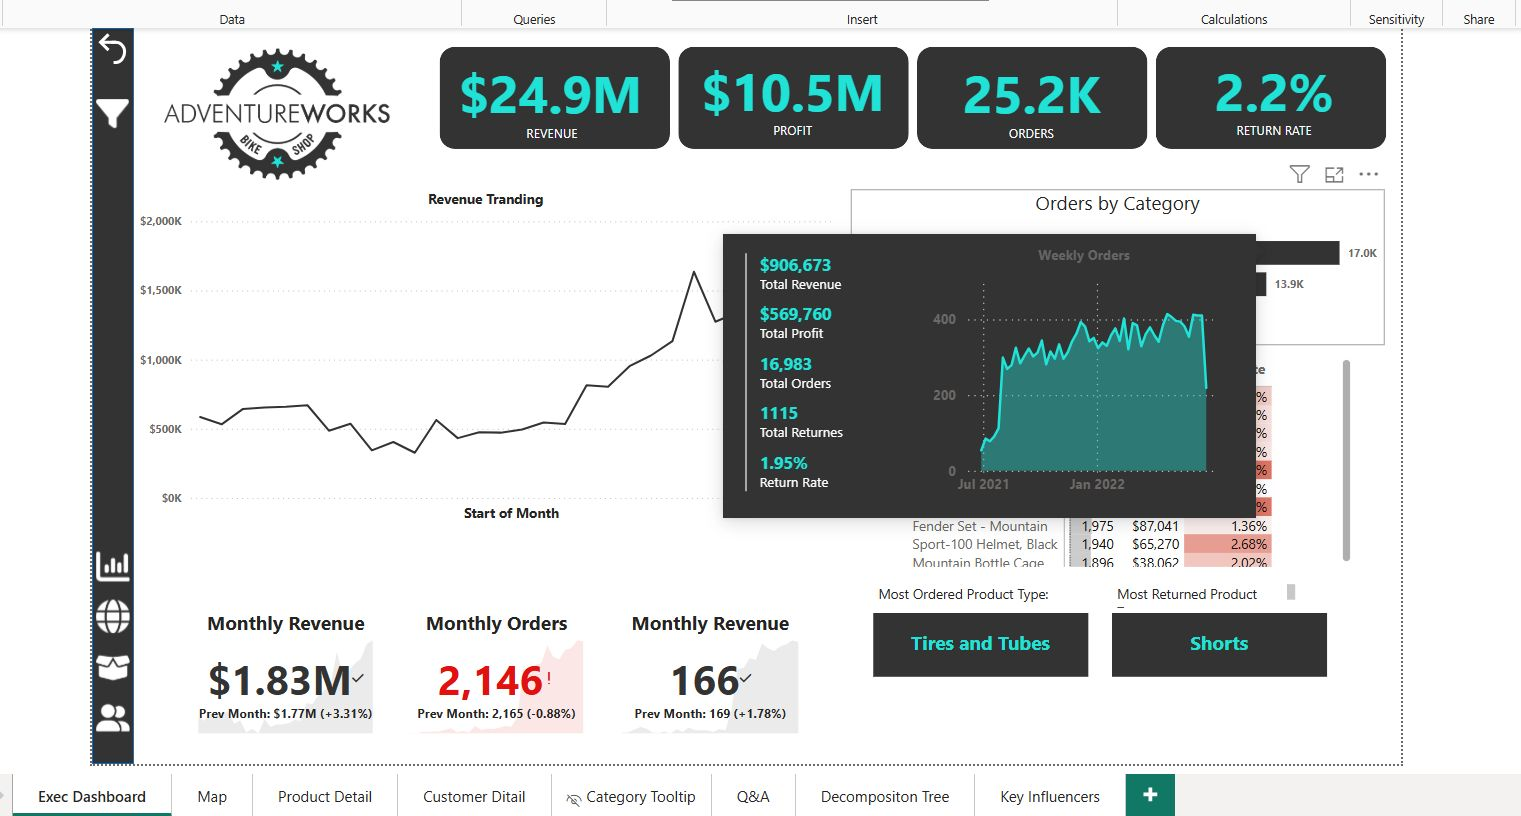

Layout of this report page (visuals, bound fields, positions):
{"tool":"powerbi","page":{"name":"Exec Dashboard","canvas":[1280,720],"ordinal":0},"visuals":[{"type":"card","fields":{"Values":["Measure Table.Total Profit"]},"box":[542.9,7.8,285.6,121.1],"z":0,"group":"g2"},{"type":"image","title":"AW Logo","box":[41.1,11.1,280,146.7],"z":0},{"type":"group","id":"g1","title":"KPI Backgrounds","box":[339.6,18.9,926.7,100],"z":0,"group":"g3"},{"type":"shape","box":[339.6,18.9,225.6,100],"z":0,"group":"g1"},{"type":"actionButton","box":[0,506,41.2,41.2],"z":0,"group":"g4"},{"type":"shape","title":"Left Nav Backgound","box":[0,0,41.1,720],"z":1000},{"type":"group","id":"g2","title":"KPI Values","box":[305.6,7.8,974,124.1],"z":1000,"group":"g3"},{"type":"card","fields":{"Values":["Measure Table.Total Orders"]},"box":[776.3,10,285.6,121.1],"z":1000,"group":"g2"},{"type":"shape","box":[573.3,18.9,225.6,100],"z":1000,"group":"g1"},{"type":"actionButton","box":[0,604.5,41.2,41.2],"z":1000,"group":"g4"},{"type":"group","id":"g3","title":"KPIs","box":[305.6,7.8,974.4,124.4],"z":2000},{"type":"card","fields":{"Values":["Measure Table.Total Revenue"]},"box":[305.6,10.8,285.6,121.1],"z":2000,"group":"g2"},{"type":"shape","box":[1040.7,18.9,225.6,100],"z":2000,"group":"g1"},{"type":"actionButton","box":[0,555.3,41.2,41.2],"z":2000,"group":"g4"},{"type":"card","fields":{"Values":["Measure Table.Return Rate"]},"box":[1032.9,7.8,246.7,121.1],"z":3000,"group":"g2"},{"type":"shape","box":[807,18.9,225.6,100],"z":3000,"group":"g1"},{"type":"lineChart","title":"Revenue Tranding ","fields":{"Y":["Measure Table.Total Revenue"],"Category":["Calendar Lookup.Date Hierarchy.Start of Year","Calendar Lookup.Date Hierarchy.Start of Month","Calendar Lookup.Date Hierarchy.Start of Week"]},"box":[41.2,157.6,686.9,329.6],"z":3000},{"type":"actionButton","box":[0,653.8,41.2,41.2],"z":3000,"group":"g4"},{"type":"kpi","title":"Monthly Revenue","fields":{"Indicator":["Measure Table.Total Revenue"],"TrendLine":["Calendar Lookup.Date Hierarchy.Start of Month"],"Goal":["Measure Table.Previous Month Revenue"]},"box":[98.5,568.7,180.9,126.3],"z":4000},{"type":"kpi","title":"Monthly Orders","fields":{"TrendLine":["Calendar Lookup.Date Hierarchy.Start of Month"],"Indicator":["Measure Table.Total Orders"],"Goal":["Measure Table.Previous Month Orders"]},"box":[305.4,568.7,180,126.3],"z":5000},{"type":"kpi","title":"Monthly Revenue","fields":{"TrendLine":["Calendar Lookup.Date Hierarchy.Start of Month"],"Indicator":["Measure Table.Total Returnes"],"Goal":["Measure Table.Previous Month Return"]},"box":[514,568.7,182.7,126.3],"z":6000},{"type":"clusteredBarChart","title":"Orders by Category","fields":{"Category":["Product Categories Lookup.CategoryName"],"Y":["Measure Table.Total Orders"]},"box":[742.2,157.8,522.2,153.3],"z":7000},{"type":"pivotTable","fields":{"Rows":["Product Lookup.ProductName"],"Values":["Measure Table.Total Orders","Measure Table.Total Revenue","Measure Table.Return Rate"]},"box":[792.2,318.9,444.4,213.3],"z":8000},{"type":"card","fields":{"Values":["Min(Product Subcategories Lookup.SubcategoryName)"]},"box":[764.4,572.3,210.3,62.4],"z":9000},{"type":"textbox","box":[764.4,539.7,184.4,32.6],"z":10000},{"type":"card","fields":{"Values":["Min(Product Subcategories Lookup.SubcategoryName)"]},"box":[998.1,571.7,210.3,62.4],"z":11000},{"type":"textbox","box":[998.1,539.1,184.4,32.6],"z":12000},{"type":"actionButton","box":[0,0,41.2,40.3],"z":13000},{"type":"group","id":"g4","title":"Navigation Buttons","box":[0,506,41.2,189],"z":14000},{"type":"actionButton","box":[0,63.6,41.2,40.3],"z":15000}]}

Visuals, with their boxes on the page's 1280x720 design canvas (x1, y1, x2, y2). These are canvas units, not pixel positions in the 1521x816 screenshot, which may show the page scaled, cropped or inside an application window:
card - Measure Table.Total Profit: BBox(543, 8, 828, 129)
"AW Logo" image: BBox(41, 11, 321, 158)
"KPI Backgrounds" group: BBox(340, 19, 1266, 119)
shape: BBox(340, 19, 565, 119)
actionButton: BBox(0, 506, 41, 547)
"Left Nav Backgound" shape: BBox(0, 0, 41, 720)
"KPI Values" group: BBox(306, 8, 1280, 132)
card - Measure Table.Total Orders: BBox(776, 10, 1062, 131)
shape: BBox(573, 19, 799, 119)
actionButton: BBox(0, 604, 41, 646)
"KPIs" group: BBox(306, 8, 1280, 132)
card - Measure Table.Total Revenue: BBox(306, 11, 591, 132)
shape: BBox(1041, 19, 1266, 119)
actionButton: BBox(0, 555, 41, 596)
card - Measure Table.Return Rate: BBox(1033, 8, 1280, 129)
shape: BBox(807, 19, 1033, 119)
"Revenue Tranding " lineChart: BBox(41, 158, 728, 487)
actionButton: BBox(0, 654, 41, 695)
"Monthly Revenue" kpi: BBox(98, 569, 279, 695)
"Monthly Orders" kpi: BBox(305, 569, 485, 695)
"Monthly Revenue" kpi: BBox(514, 569, 697, 695)
"Orders by Category" clusteredBarChart: BBox(742, 158, 1264, 311)
pivotTable - Product Lookup.ProductName x Measure Table.Total Orders: BBox(792, 319, 1237, 532)
card - Min(Product Subcategories Lookup.SubcategoryName): BBox(764, 572, 975, 635)
textbox: BBox(764, 540, 949, 572)
card - Min(Product Subcategories Lookup.SubcategoryName): BBox(998, 572, 1208, 634)
textbox: BBox(998, 539, 1182, 572)
actionButton: BBox(0, 0, 41, 40)
"Navigation Buttons" group: BBox(0, 506, 41, 695)
actionButton: BBox(0, 64, 41, 104)
